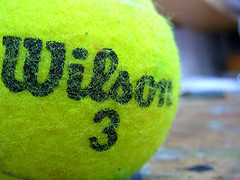tennis ball: (1, 1, 185, 178)
